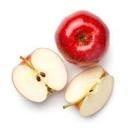apple: (64, 65, 116, 118)
